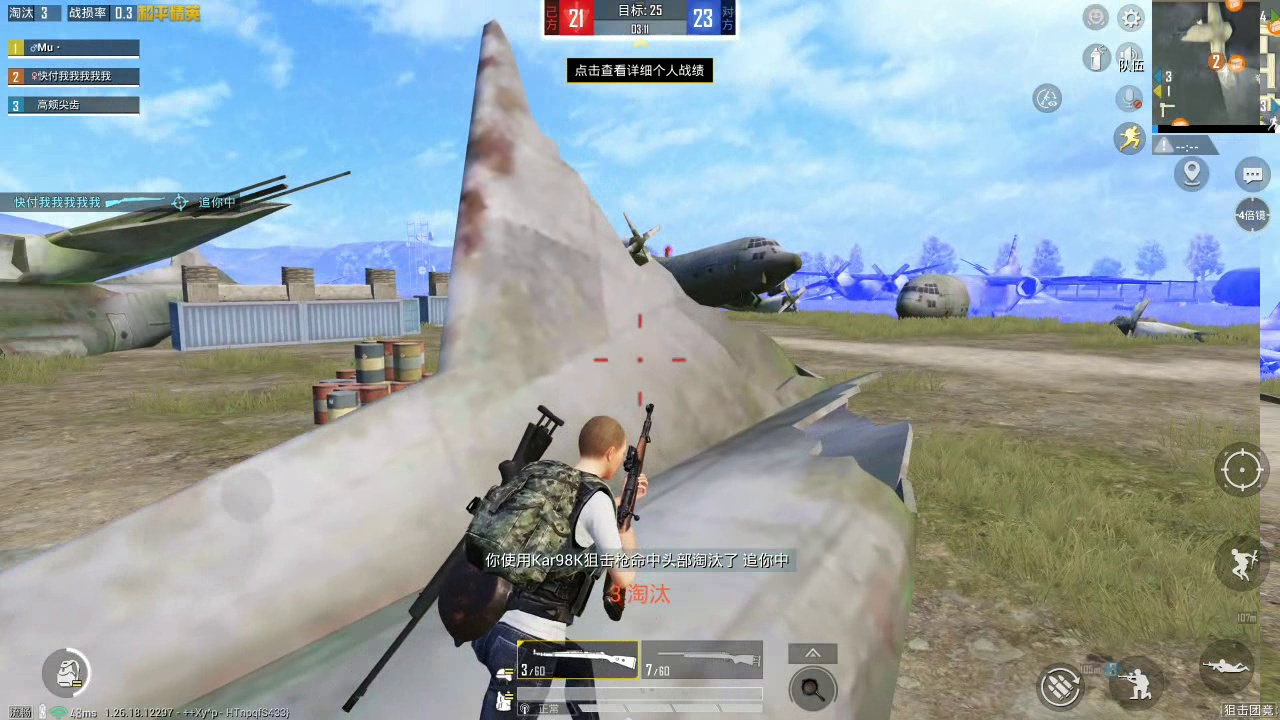enemy: (664, 243, 672, 258)
